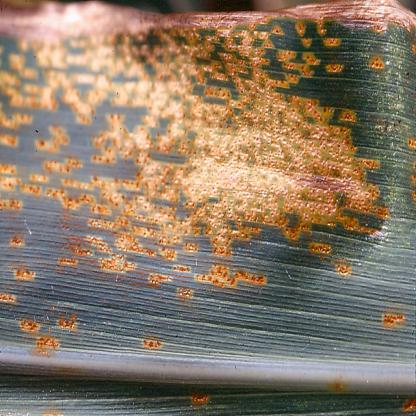corn rust leaf: (1, 1, 416, 415)
